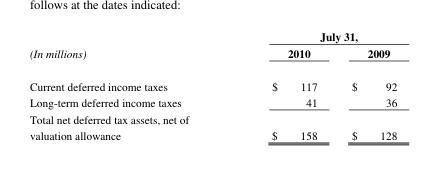table: (28, 28, 396, 141)
table column: (28, 28, 229, 141), (229, 28, 333, 141), (333, 28, 396, 141)
table column header: (28, 28, 396, 69)
table row: (28, 109, 396, 141), (28, 44, 396, 69), (28, 69, 396, 93), (28, 28, 396, 44), (28, 93, 396, 109)
table spanning cell: (28, 28, 229, 69), (229, 28, 396, 44)
